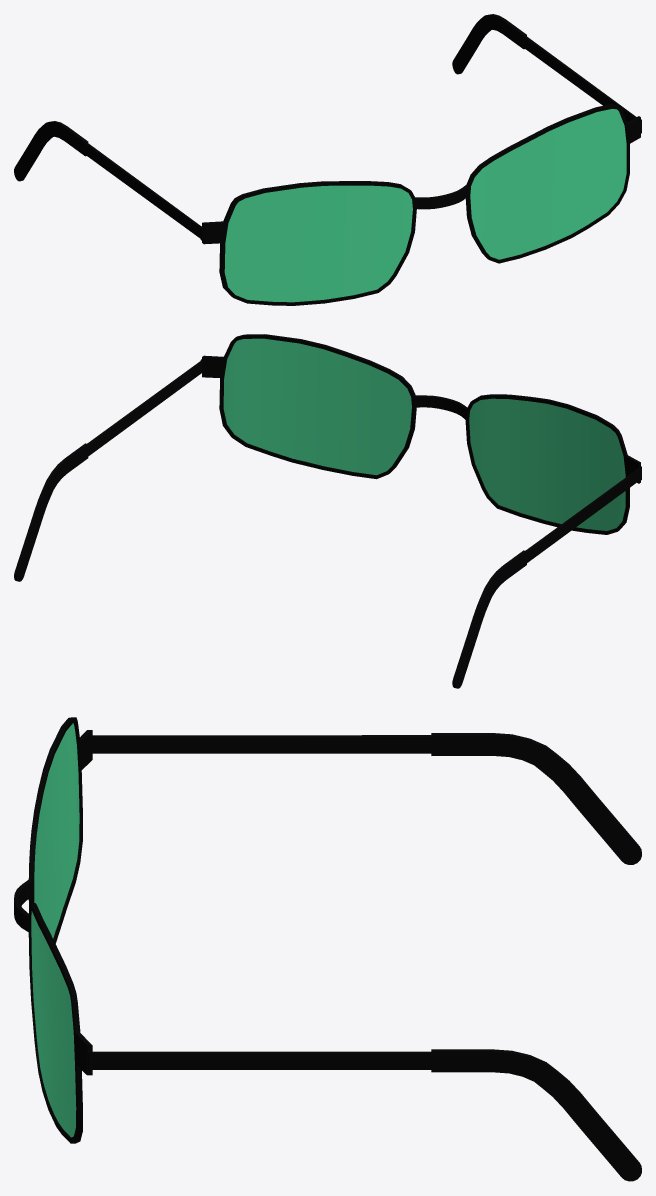
The model's file is glasses10.001.fbx.
3 views of the same model, one above another, from view 1: azimuth 30°, elevation 25°; view 2: azimuth 150°, elevation 25°; view 3: azimuth 270°, elevation 25° (orthographic). The views are drawn at different scales.
Visible parts, largest first — view 1: glasses10.001; view 2: glasses10.001; view 3: glasses10.001.
Boxes of the visible parts, x1,y1,x2,y2 form: glasses10.001: (14,14,641,305); glasses10.001: (14,334,641,688); glasses10.001: (14,717,641,1181).
Bounding box in the file's own units: 2.04 × 0.5517 × 1.7.
